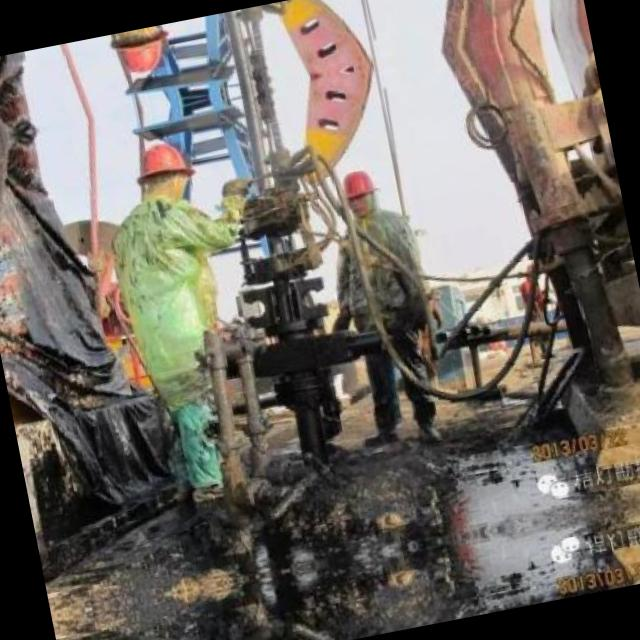helmet: (118, 124, 204, 220), (98, 23, 181, 94), (338, 162, 383, 222)
